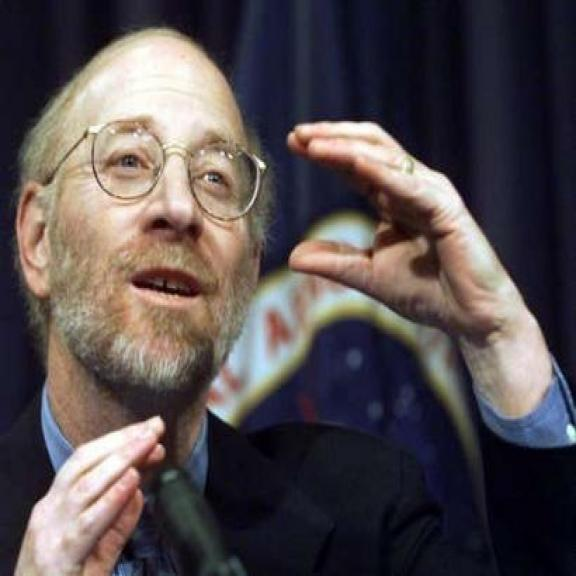face: (11, 28, 269, 409)
